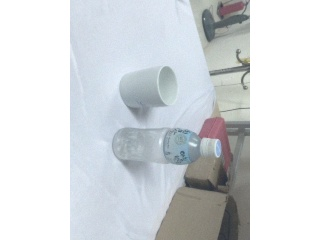bottle: (113, 127, 223, 165)
box: (152, 187, 238, 240), (185, 117, 231, 191)
cup: (119, 65, 178, 109)
